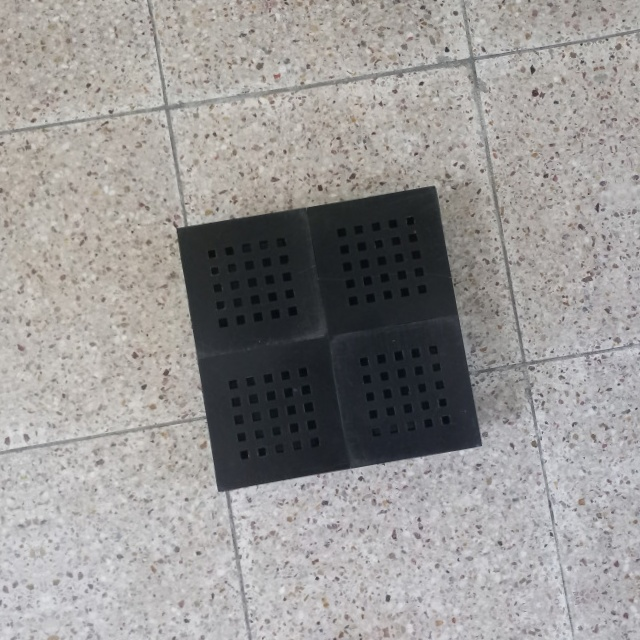pallet: (167, 176, 491, 504)
